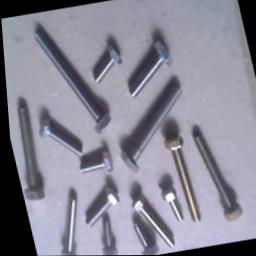Non-corroded-Bolts: (35, 31, 109, 134), (119, 79, 180, 173), (190, 133, 239, 221), (162, 135, 197, 223), (128, 41, 171, 97), (16, 105, 41, 200), (82, 187, 116, 256), (130, 199, 170, 248), (38, 117, 80, 158), (58, 191, 74, 256), (93, 46, 121, 83), (77, 149, 110, 173), (131, 224, 155, 255), (159, 188, 179, 222)
